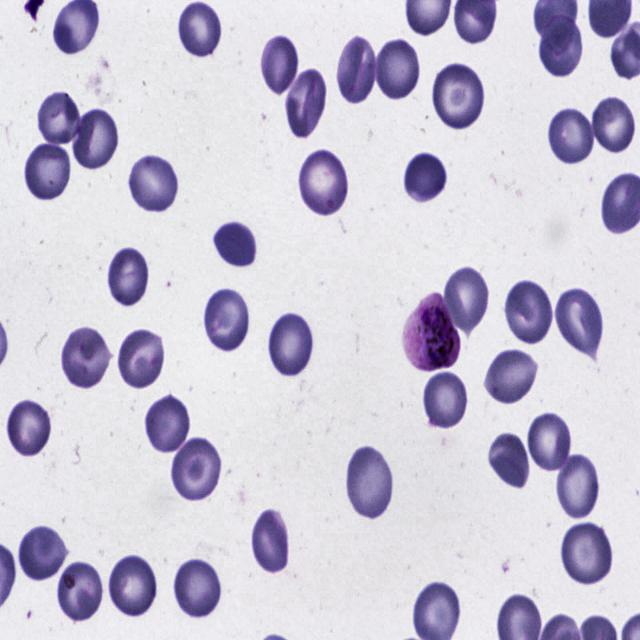red blood cell: (296, 144, 352, 218), (432, 61, 488, 133), (345, 441, 394, 522), (560, 520, 616, 587), (60, 322, 114, 391), (554, 285, 605, 356), (441, 265, 491, 337), (502, 277, 554, 346), (126, 150, 181, 215), (172, 436, 224, 504), (266, 310, 317, 379), (554, 448, 601, 522), (107, 553, 158, 620), (284, 65, 329, 139), (115, 326, 167, 390), (173, 554, 223, 620), (375, 34, 422, 104), (22, 140, 75, 202), (482, 347, 539, 404), (70, 106, 120, 170), (19, 522, 70, 584), (203, 287, 250, 353), (546, 105, 596, 166), (144, 392, 192, 455), (5, 397, 54, 458), (106, 243, 150, 310), (56, 562, 105, 622), (485, 430, 532, 492), (423, 369, 470, 430), (252, 504, 290, 578), (337, 34, 377, 104), (34, 90, 82, 148), (540, 14, 582, 80), (528, 411, 572, 472), (176, 3, 224, 58), (591, 93, 635, 153), (404, 151, 448, 205), (260, 34, 298, 96), (212, 218, 257, 268)
schizont: (399, 293, 461, 373)
